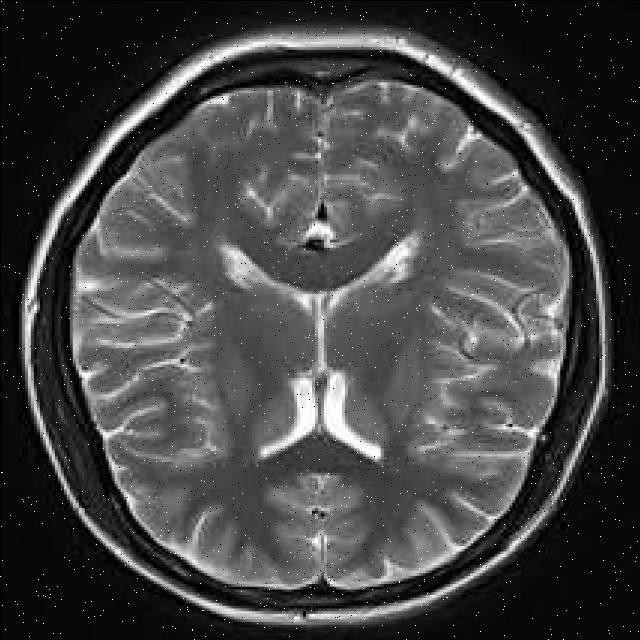No_Tumor: (21, 28, 611, 623)
